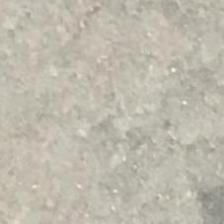Non_Crack: (16, 35, 192, 203)
